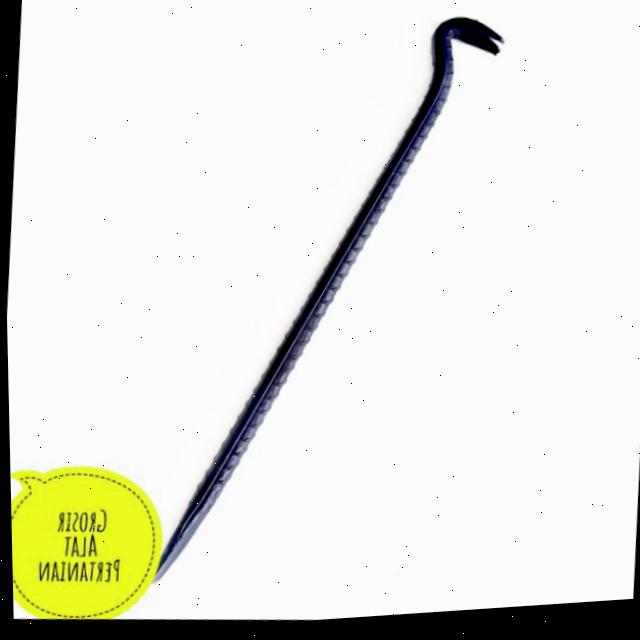crow bar: (143, 0, 532, 616)
